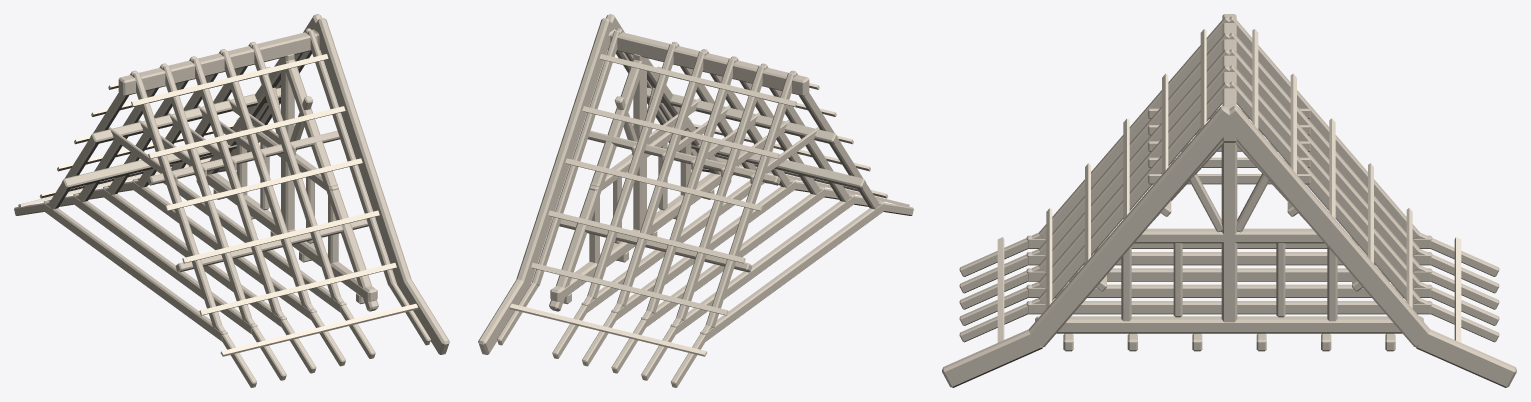
File: SM_VK_Roof_Gable_Frame.fbx
3 views of the same model, side by side, from view 1: azimuth 30°, elevation 25°; view 2: azimuth 150°, elevation 25°; view 3: azimuth 270°, elevation 25° (orthographic). The views are drawn at different scales.
Parts seen in each view (by area): view 1: SM_VK_Roof_Gable_Frame.001; view 2: SM_VK_Roof_Gable_Frame.001; view 3: SM_VK_Roof_Gable_Frame.001.
Boxes of the visible parts, x1=… form: SM_VK_Roof_Gable_Frame.001: x1=14, y1=14, x2=449, y2=387; SM_VK_Roof_Gable_Frame.001: x1=478, y1=14, x2=913, y2=387; SM_VK_Roof_Gable_Frame.001: x1=942, y1=14, x2=1516, y2=387.
Bounding box in the file's own units: 4.11 × 4.8 × 8.93.
